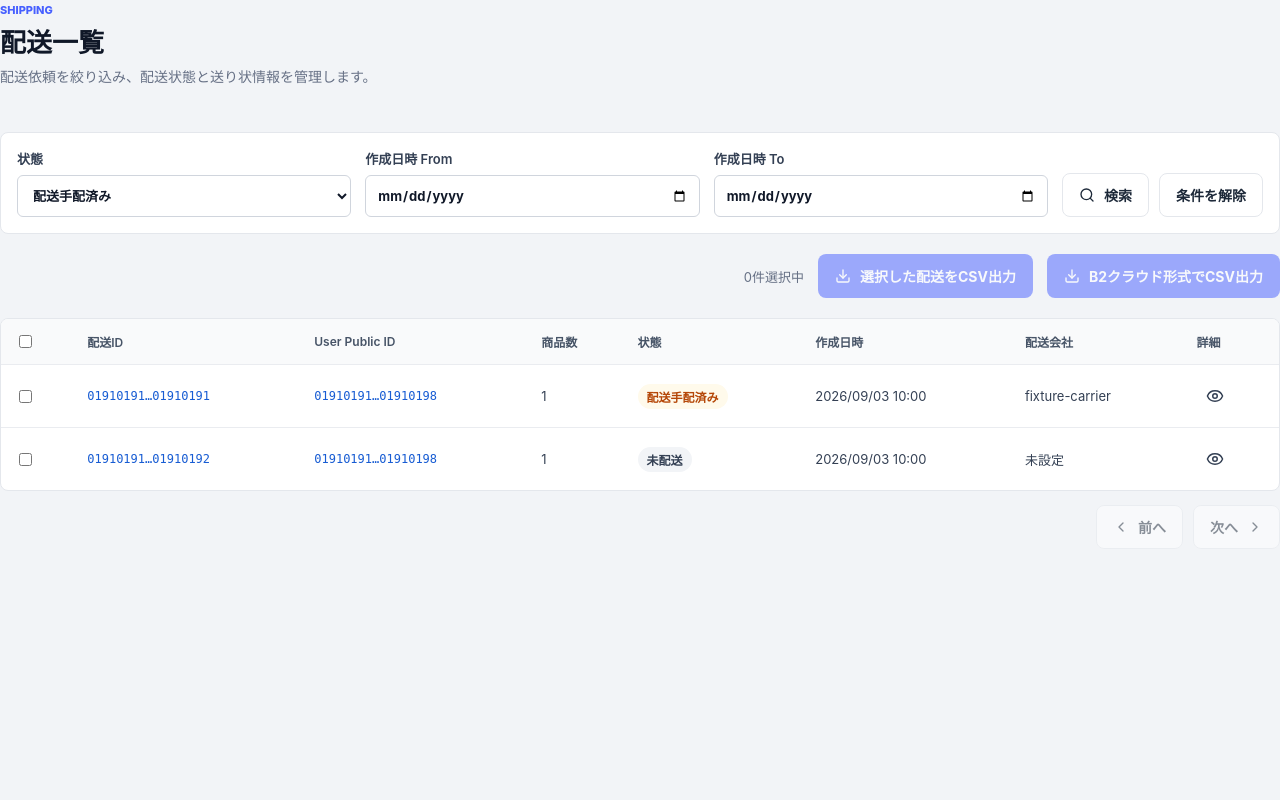
Scenario: Admin Shipping management › downloads B2 with its own filename, retains selection and filters, and shows unique warning IDs and codes
Click the checkbox named "配送 01910191-0191-7191-8191-019101910191 を選択". click: click(26, 396)
box: [19,390,32,403]
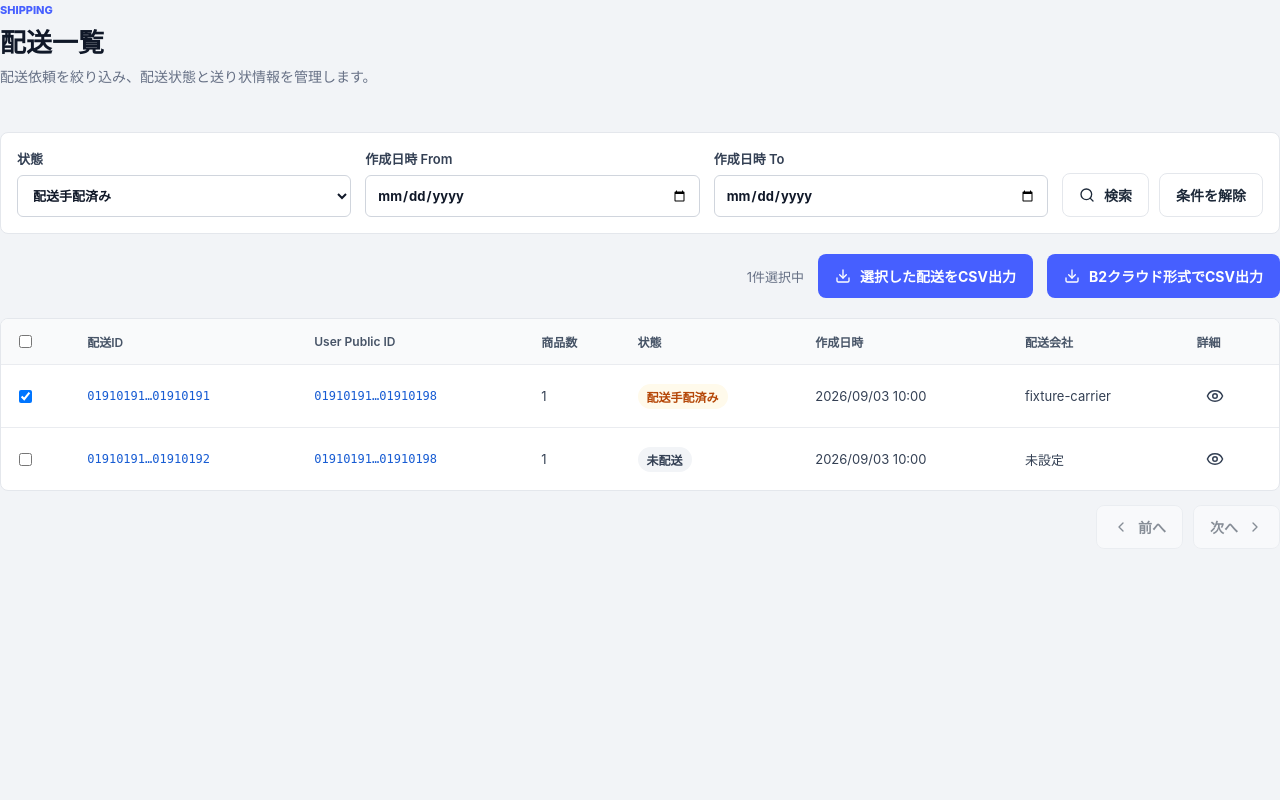
Click the button "B2クラウド形式でCSV出力". click: click(1163, 276)
box: [1047,254,1279,298]
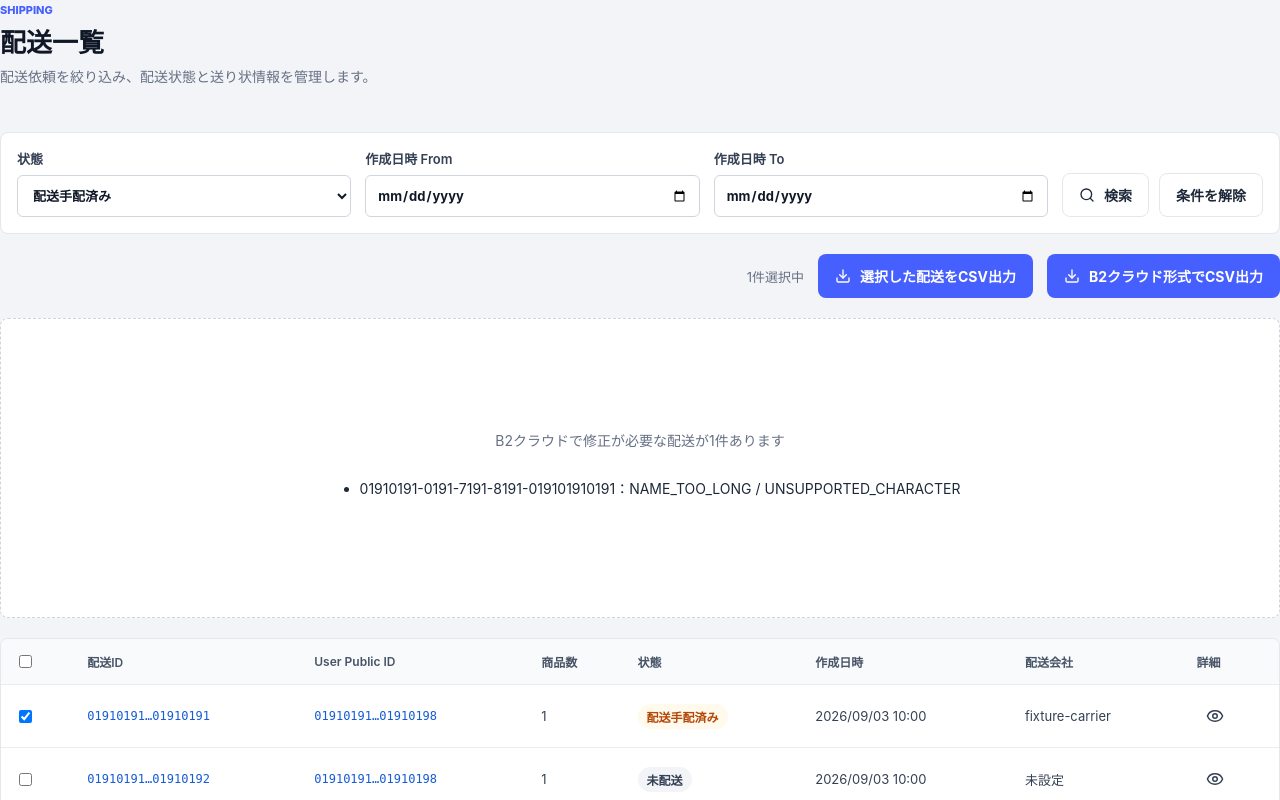
expect the element named "B2出力の警告" shows "B2クラウドで修正が必要な配送が1件あります": met, box [0,318,1279,618]
expect the element named "B2出力の警告" shows "01910191-0191-7191-8191-019101910191": met, box [360,480,615,497]
expect the element named "B2出力の警告" shows "NAME_TOO_LONG / UNSUPPORTED_CHARACTER": met, box [629,480,960,497]
